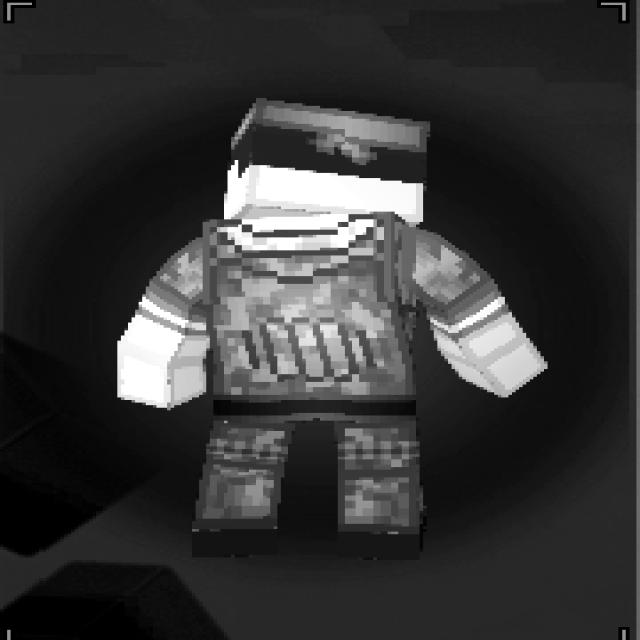Head: (220, 95, 430, 222)
Player: (110, 95, 548, 560)
